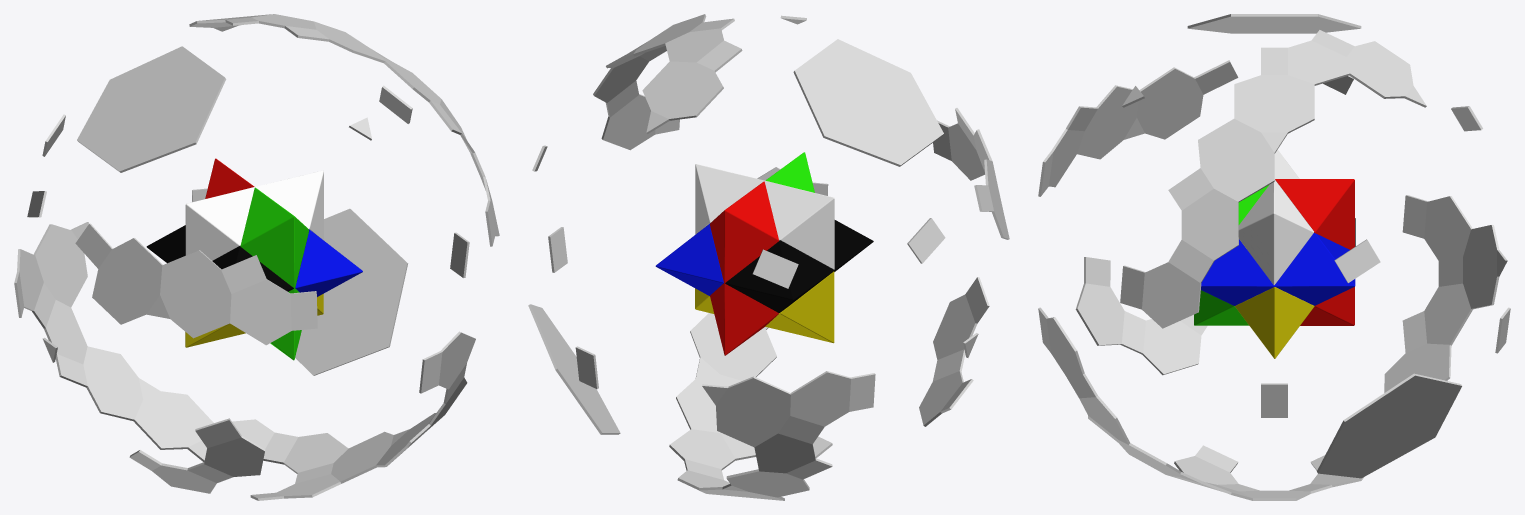
Rendered from Hex.fbx.
The picture shows the model from 3 angles, left to right: view 1: azimuth 30°, elevation 25°; view 2: azimuth 150°, elevation 25°; view 3: azimuth 270°, elevation 25°; orthographic projection.
Parts seen in each view (by area): view 1: Icosphere, Cube.009; view 2: Icosphere, Cube.009; view 3: Icosphere, Cube.009.
Part boxes in pixels (x1,y1,x2,y2): Icosphere: (14, 14, 499, 500); Cube.009: (146, 158, 362, 360); Icosphere: (528, 14, 1009, 500); Cube.009: (655, 152, 873, 355); Icosphere: (1038, 14, 1510, 500); Cube.009: (1194, 149, 1355, 358).
Size of the model in its own units: 1.86 by 1.81 by 1.88.
